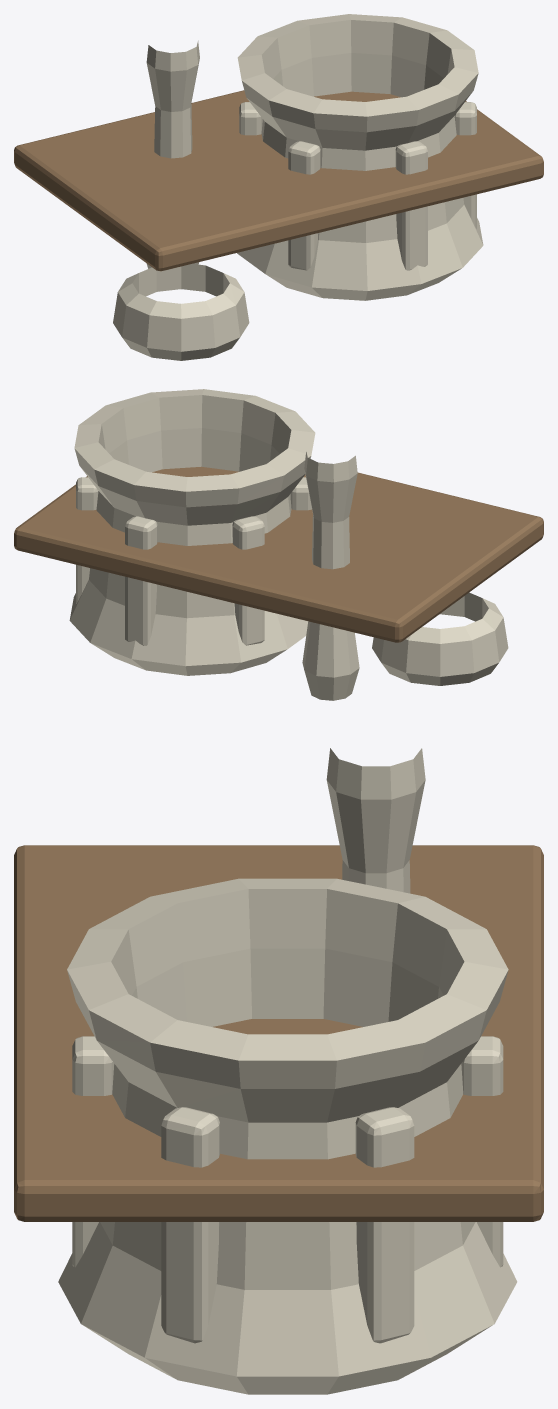
File: monastery_mortar_and_pestle_set.glb
3 views of the same model, one above another, from view 1: azimuth 30°, elevation 25°; view 2: azimuth 150°, elevation 25°; view 3: azimuth 270°, elevation 25° (orthographic). The views are drawn at different scales.
Visible parts, largest first — view 1: world; view 2: world; view 3: world.
Boxes of the visible parts, bbox=[...] form: world: bbox=[14, 14, 543, 360]; world: bbox=[14, 389, 543, 700]; world: bbox=[14, 748, 543, 1394].
Size of the model in its own units: 2 by 1.17 by 1.3.
